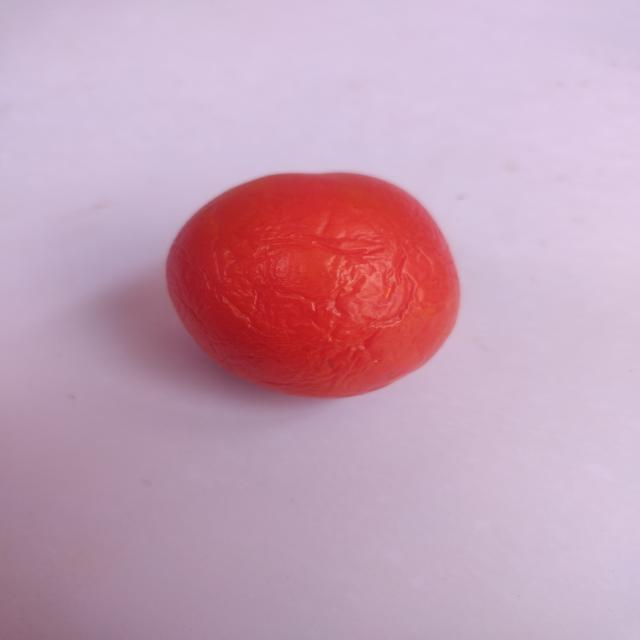Tomato: (147, 163, 470, 408)
